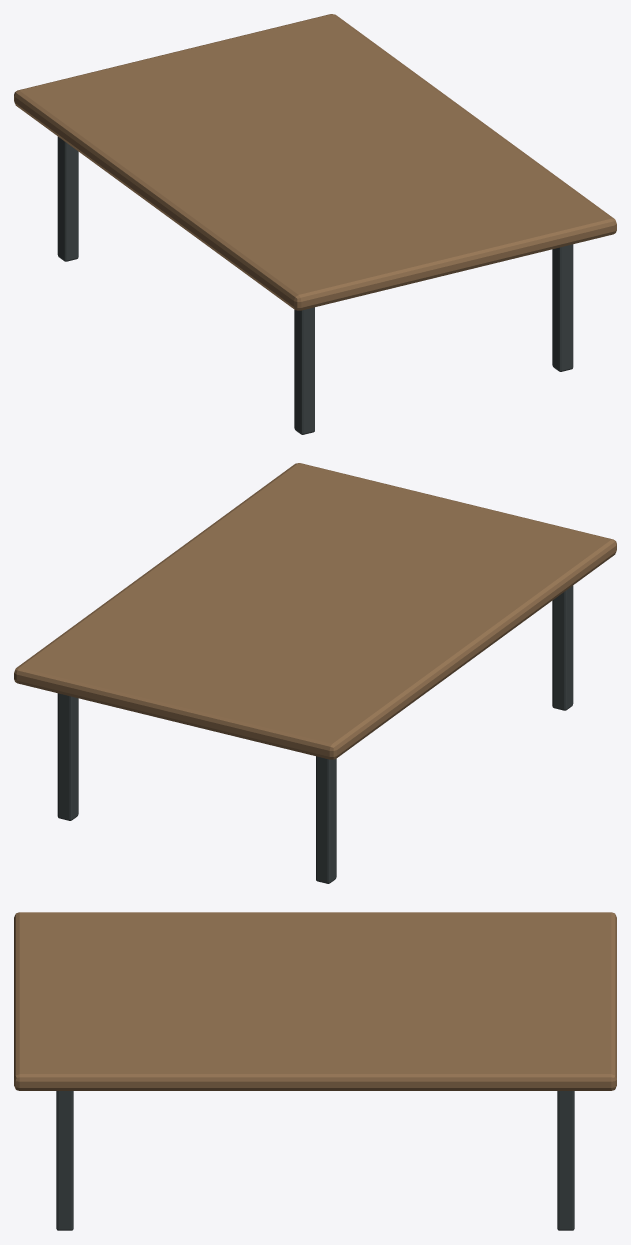
Rendered from table-l0.glb.
3 views of the same model, one above another, from view 1: azimuth 30°, elevation 25°; view 2: azimuth 150°, elevation 25°; view 3: azimuth 270°, elevation 25° (orthographic). The views are drawn at different scales.
Parts seen in each view (by area): view 1: table-l0_fixture_Oiled warm oak, table-l0_fixture_Powder-coated graphite; view 2: table-l0_fixture_Oiled warm oak, table-l0_fixture_Powder-coated graphite; view 3: table-l0_fixture_Oiled warm oak, table-l0_fixture_Powder-coated graphite.
Boxes of the visible parts, <box> form: table-l0_fixture_Oiled warm oak: <box>14,14,616,310</box>; table-l0_fixture_Powder-coated graphite: <box>57,136,573,434</box>; table-l0_fixture_Oiled warm oak: <box>14,463,616,759</box>; table-l0_fixture_Powder-coated graphite: <box>57,585,573,883</box>; table-l0_fixture_Oiled warm oak: <box>14,912,616,1090</box>; table-l0_fixture_Powder-coated graphite: <box>56,1091,574,1230</box>.
Bounding box in the file's own units: 1.7 × 0.8 × 2.6.
